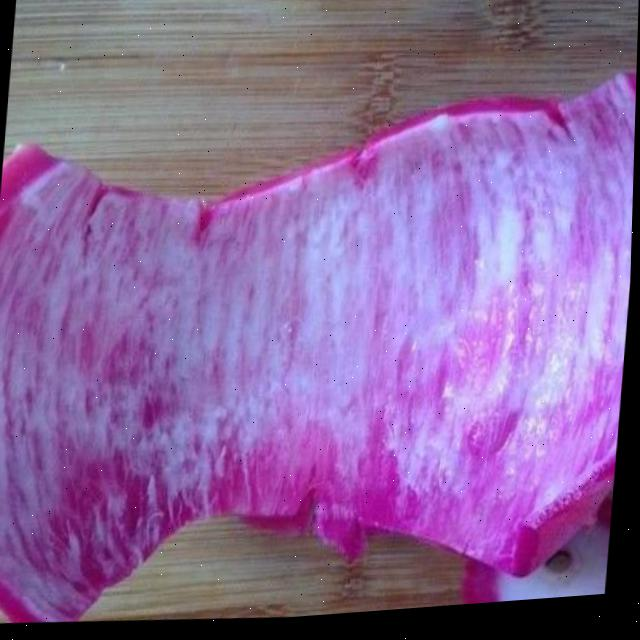Wet: (0, 43, 638, 640)
